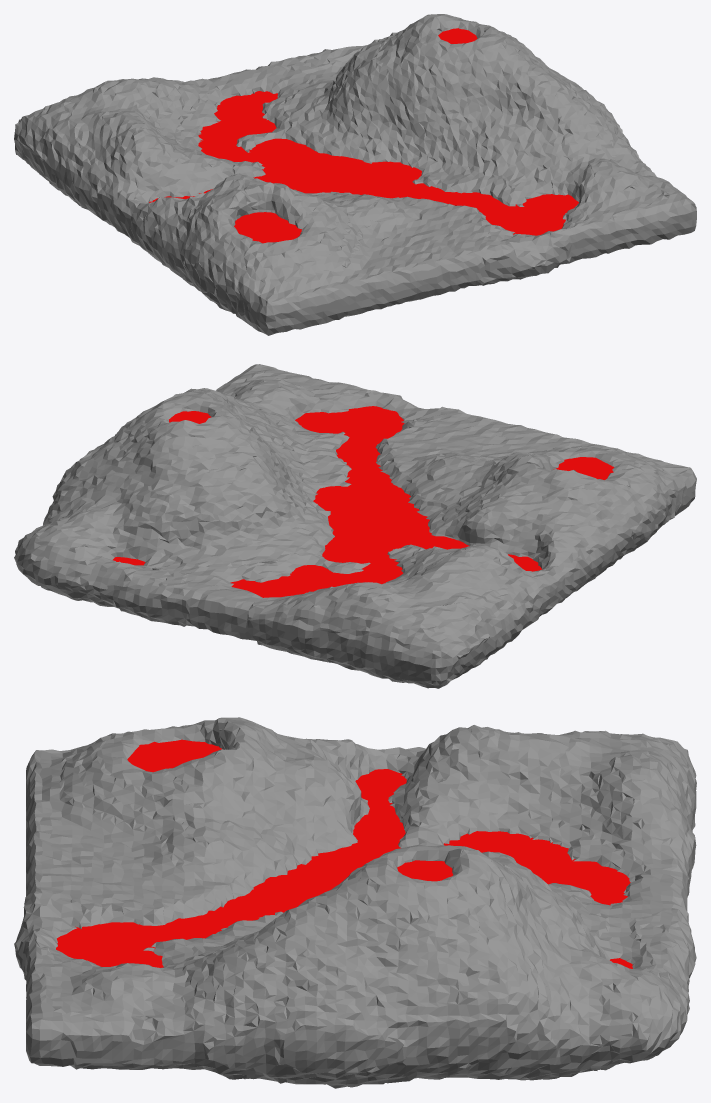
File: NoBridge.dae
3 views of the same model, one above another, from view 1: azimuth 30°, elevation 25°; view 2: azimuth 150°, elevation 25°; view 3: azimuth 270°, elevation 25° (orthographic). The views are drawn at different scales.
Visible parts, largest first — view 1: Bridge of Doom, Bridge of Doom.001; view 2: Bridge of Doom, Bridge of Doom.001; view 3: Bridge of Doom, Bridge of Doom.001.
Part boxes in pixels (x1=…): Bridge of Doom: x1=14, y1=14, x2=696, y2=335; Bridge of Doom.001: x1=149, y1=28, x2=578, y2=243; Bridge of Doom: x1=14, y1=364, x2=696, y2=688; Bridge of Doom.001: x1=113, y1=406, x2=614, y2=597; Bridge of Doom: x1=14, y1=717, x2=696, y2=1088; Bridge of Doom.001: x1=56, y1=739, x2=632, y2=968.
Size of the model in its own units: 276 by 269 by 79.53.
